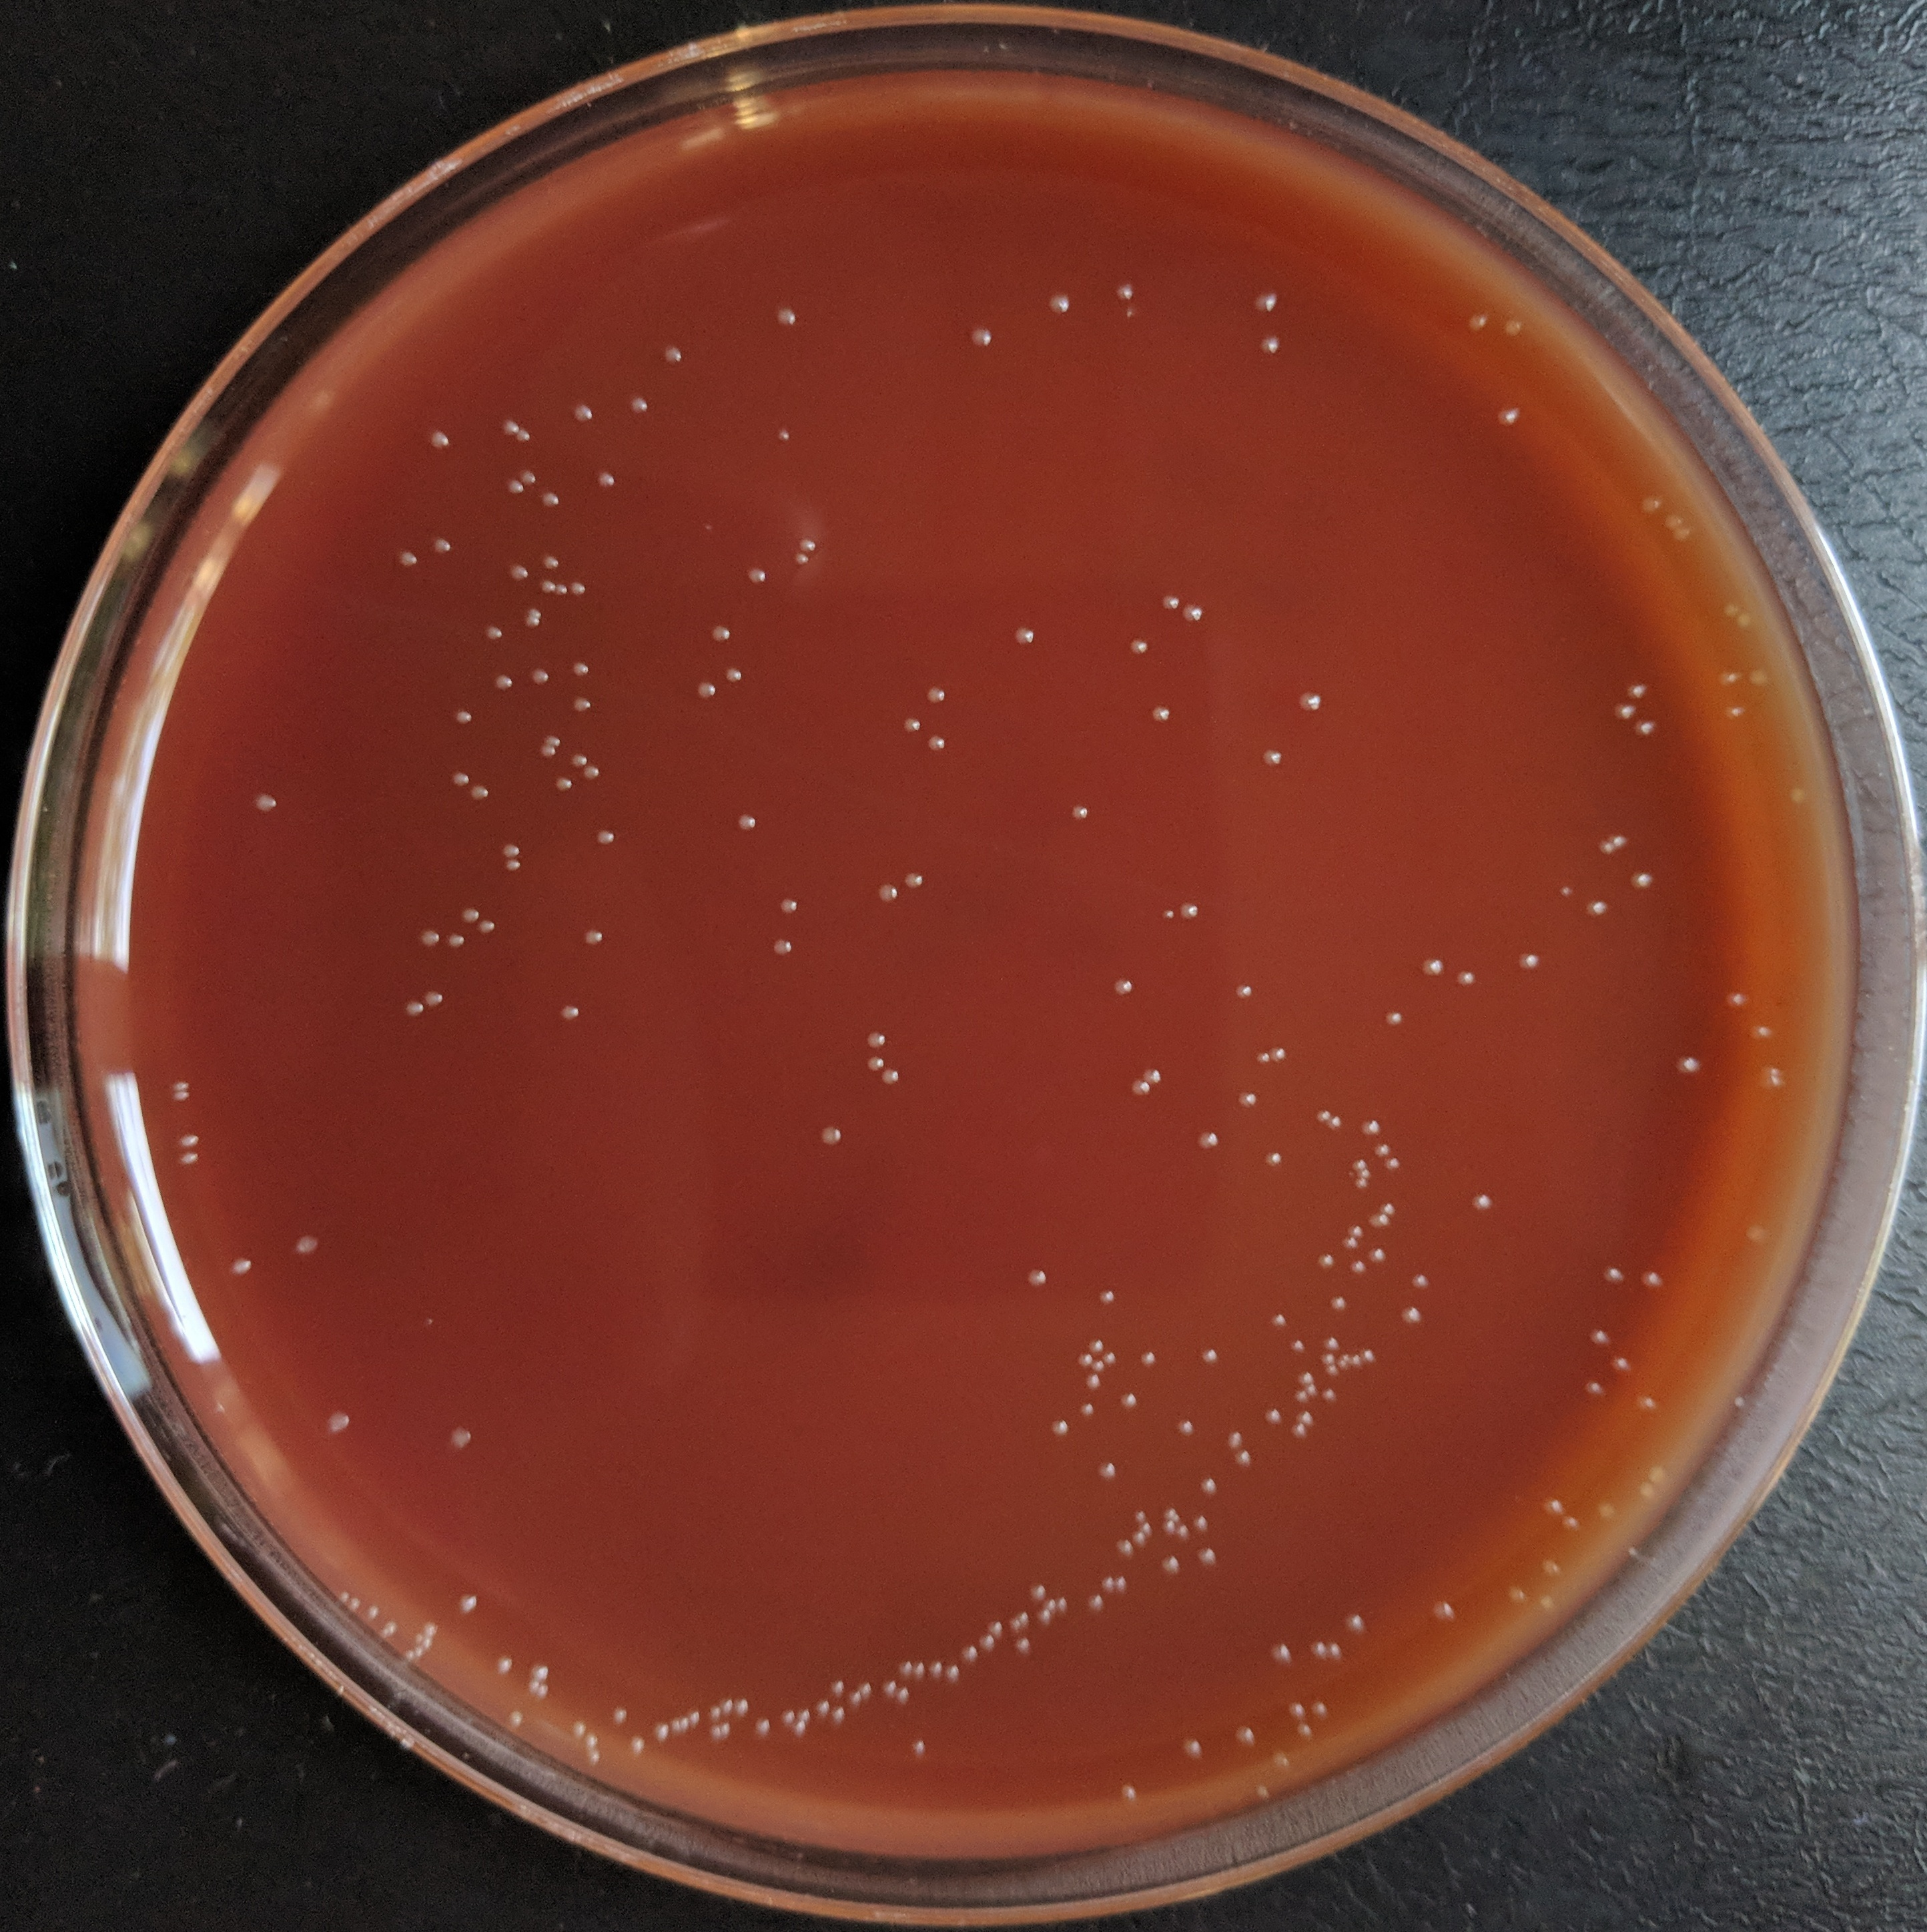sp07: (1731, 1216, 1773, 1254), (1601, 1262, 1634, 1304), (768, 307, 814, 337), (1288, 686, 1325, 723), (284, 1230, 325, 1263), (325, 1403, 358, 1440), (1041, 288, 1073, 321), (1461, 307, 1495, 339), (1248, 288, 1285, 316), (1502, 314, 1532, 348), (1491, 402, 1525, 432), (1511, 947, 1544, 977), (1191, 1126, 1225, 1156), (1608, 697, 1643, 725), (1669, 1053, 1706, 1080), (1122, 1076, 1161, 1101), (963, 323, 995, 353), (1233, 1085, 1263, 1117), (1253, 743, 1286, 771), (570, 399, 600, 429), (1729, 609, 1759, 639), (1419, 953, 1449, 983), (501, 558, 533, 586), (1009, 621, 1041, 649), (1145, 699, 1177, 727), (1265, 1639, 1293, 1671), (919, 683, 953, 709), (1108, 974, 1142, 1000), (1383, 1004, 1410, 1037), (1020, 1265, 1053, 1292), (224, 1253, 258, 1279), (1631, 866, 1659, 896), (443, 1422, 471, 1452), (1177, 600, 1209, 626), (1228, 1724, 1260, 1750), (1251, 330, 1279, 358), (1313, 1247, 1341, 1276), (1193, 1542, 1221, 1570), (817, 1124, 845, 1152), (745, 561, 771, 591), (1064, 801, 1094, 827), (1470, 1186, 1496, 1216), (1586, 1323, 1616, 1350), (1156, 1554, 1186, 1581), (898, 713, 930, 738), (1152, 593, 1184, 618), (1454, 967, 1486, 992), (1327, 1288, 1352, 1320), (1622, 679, 1655, 702), (1346, 1604, 1369, 1637), (478, 619, 506, 646), (708, 619, 734, 648), (1613, 827, 1639, 856), (1585, 896, 1613, 923), (1396, 1302, 1424, 1329), (251, 789, 279, 815), (1784, 782, 1809, 812), (1749, 1018, 1773, 1048), (1366, 1209, 1396, 1233), (1092, 1284, 1122, 1309), (1579, 1378, 1609, 1403), (1721, 990, 1752, 1013), (1426, 1597, 1459, 1618), (1641, 1265, 1668, 1292), (1115, 1778, 1142, 1805), (626, 392, 655, 416), (1112, 277, 1140, 302), (1639, 494, 1668, 519), (1173, 898, 1202, 923), (1364, 1136, 1392, 1161), (1631, 1390, 1659, 1415), (1535, 1591, 1563, 1616), (1292, 1717, 1316, 1745), (166, 1071, 194, 1096), (595, 824, 619, 852), (776, 893, 801, 921), (718, 665, 748, 688), (1306, 1639, 1329, 1669), (556, 1002, 586, 1025), (425, 427, 452, 452), (431, 533, 457, 558), (1355, 1115, 1382, 1140), (1593, 1498, 1618, 1524), (1181, 1736, 1207, 1761), (457, 1591, 482, 1618), (734, 812, 759, 838), (395, 549, 424, 572), (1722, 700, 1751, 723), (1406, 1270, 1435, 1293), (1094, 1459, 1122, 1482), (752, 1715, 775, 1743), (872, 882, 900, 905), (535, 741, 565, 762), (1083, 1591, 1105, 1621), (468, 919, 498, 940), (491, 670, 515, 695), (1128, 633, 1152, 658), (1743, 665, 1768, 690), (1535, 1554, 1560, 1579), (771, 935, 796, 960), (528, 663, 551, 690), (568, 658, 595, 681), (452, 706, 478, 729), (789, 549, 815, 572), (1265, 1309, 1292, 1332), (1609, 1352, 1636, 1374), (492, 1655, 515, 1681), (418, 986, 445, 1009), (498, 838, 524, 861), (662, 341, 681, 371), (593, 469, 618, 492), (568, 577, 591, 602), (1671, 524, 1694, 549), (1719, 596, 1743, 619), (1634, 713, 1657, 738), (1717, 665, 1740, 690), (1271, 1043, 1293, 1067), (1262, 1147, 1286, 1170), (1366, 1244, 1389, 1269), (1117, 1389, 1140, 1413), (1544, 1498, 1569, 1521), (1505, 1583, 1530, 1606), (1283, 1699, 1308, 1722), (958, 1644, 981, 1669), (505, 1710, 528, 1734), (448, 768, 471, 792), (552, 773, 577, 796), (905, 868, 930, 891), (1593, 838, 1620, 859), (1758, 1071, 1784, 1092), (1048, 1417, 1075, 1438), (1052, 1595, 1073, 1621), (609, 1704, 630, 1731), (401, 997, 427, 1018), (581, 926, 607, 947), (416, 925, 443, 946), (863, 1030, 889, 1052), (1325, 1112, 1345, 1140), (695, 679, 718, 702), (1346, 1254, 1369, 1277), (1269, 1749, 1292, 1771), (1113, 1539, 1136, 1561), (895, 1659, 918, 1681), (498, 415, 522, 436), (926, 729, 948, 753), (1253, 1048, 1278, 1069), (1260, 1406, 1285, 1427), (1173, 1417, 1198, 1438), (1643, 1461, 1668, 1482), (1025, 1584, 1050, 1606), (655, 1722, 676, 1747), (1320, 1336, 1346, 1355), (1286, 1419, 1306, 1445), (168, 1089, 194, 1108), (877, 1069, 904, 1089), (538, 550, 561, 572), (1661, 510, 1683, 531), (1382, 1154, 1405, 1175), (1376, 1198, 1399, 1219), (1341, 1232, 1364, 1253), (1138, 1346, 1161, 1367), (1075, 1399, 1096, 1422), (1638, 1480, 1659, 1503), (1251, 1784, 1274, 1805), (986, 1616, 1008, 1639), (925, 1660, 946, 1683), (882, 1680, 904, 1703), (849, 1689, 870, 1711), (776, 1708, 798, 1731), (536, 1681, 558, 1704), (455, 903, 478, 925), (468, 780, 491, 801), (1198, 1346, 1223, 1366), (1161, 1505, 1186, 1524), (443, 932, 468, 951), (540, 490, 561, 512), (1352, 1172, 1373, 1193), (1295, 1406, 1316, 1427), (778, 423, 801, 443), (798, 533, 817, 556), (582, 760, 602, 783), (1346, 1219, 1366, 1242), (1316, 1387, 1339, 1406), (1082, 1371, 1101, 1394), (1226, 1429, 1246, 1452), (1195, 1477, 1218, 1496), (1311, 1696, 1331, 1719), (1112, 1572, 1131, 1595), (911, 1660, 930, 1683), (863, 1055, 886, 1075), (503, 478, 528, 496), (1142, 1067, 1166, 1085), (1759, 1062, 1784, 1080), (893, 1687, 911, 1711), (630, 1734, 648, 1759), (911, 1736, 926, 1763), (365, 1600, 381, 1627), (515, 468, 536, 487), (549, 579, 568, 600), (568, 693, 589, 713), (1232, 981, 1253, 1000), (1288, 1337, 1309, 1357), (1087, 1336, 1106, 1357), (1232, 1449, 1251, 1470), (1013, 1637, 1034, 1657), (859, 1681, 879, 1703), (794, 1720, 814, 1741), (572, 1719, 591, 1740), (529, 1664, 551, 1683), (178, 1129, 198, 1150), (1313, 1103, 1331, 1126), (1193, 1512, 1211, 1535), (686, 1710, 704, 1733), (180, 1150, 203, 1168), (499, 856, 522, 873), (1316, 1353, 1341, 1369), (720, 1699, 736, 1724), (706, 1703, 722, 1727), (679, 1715, 695, 1740), (1297, 1367, 1316, 1387), (1099, 1348, 1119, 1367), (1161, 1519, 1181, 1539), (1016, 1609, 1036, 1629), (978, 1632, 997, 1651), (582, 1731, 602, 1750), (515, 425, 533, 446), (1073, 1352, 1094, 1369), (1331, 1641, 1345, 1667), (1175, 1521, 1193, 1542), (1129, 1531, 1151, 1549), (1101, 1576, 1119, 1597), (1039, 1609, 1057, 1630), (831, 1678, 849, 1699), (383, 1621, 401, 1643), (1558, 1516, 1581, 1531), (1008, 1616, 1023, 1639), (734, 1696, 750, 1719), (831, 1704, 845, 1729), (536, 579, 554, 598), (570, 752, 588, 771), (1558, 884, 1578, 902), (1362, 1344, 1380, 1364), (1302, 1383, 1322, 1401), (944, 1664, 962, 1683), (796, 1708, 815, 1726), (420, 1636, 438, 1655), (542, 732, 563, 748), (1350, 1353, 1366, 1374), (413, 1644, 429, 1666), (1138, 1521, 1156, 1539), (1087, 1359, 1106, 1374), (424, 1620, 443, 1636), (521, 612, 542, 626), (1352, 1163, 1373, 1177), (1334, 1359, 1355, 1373), (1290, 1389, 1311, 1403), (1133, 1507, 1149, 1524), (415, 1632, 431, 1650), (1158, 907, 1177, 921), (669, 1717, 683, 1736), (588, 1750, 602, 1770), (528, 1676, 542, 1696), (720, 1720, 732, 1741), (402, 1648, 418, 1664), (1325, 1364, 1343, 1378), (1045, 1599, 1059, 1616), (706, 1726, 720, 1743), (1350, 1154, 1366, 1168), (817, 1699, 831, 1715), (349, 1597, 364, 1611), (337, 1591, 351, 1606), (524, 607, 542, 616), (1341, 1353, 1353, 1364)
